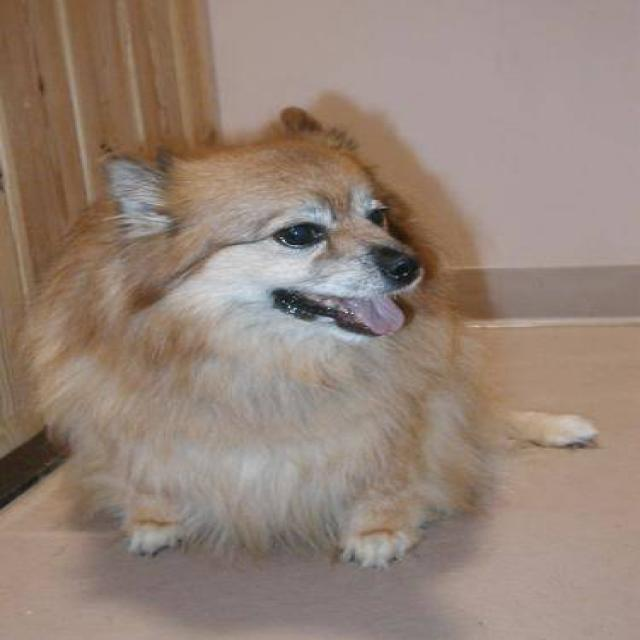Dog: (93, 101, 434, 348)
